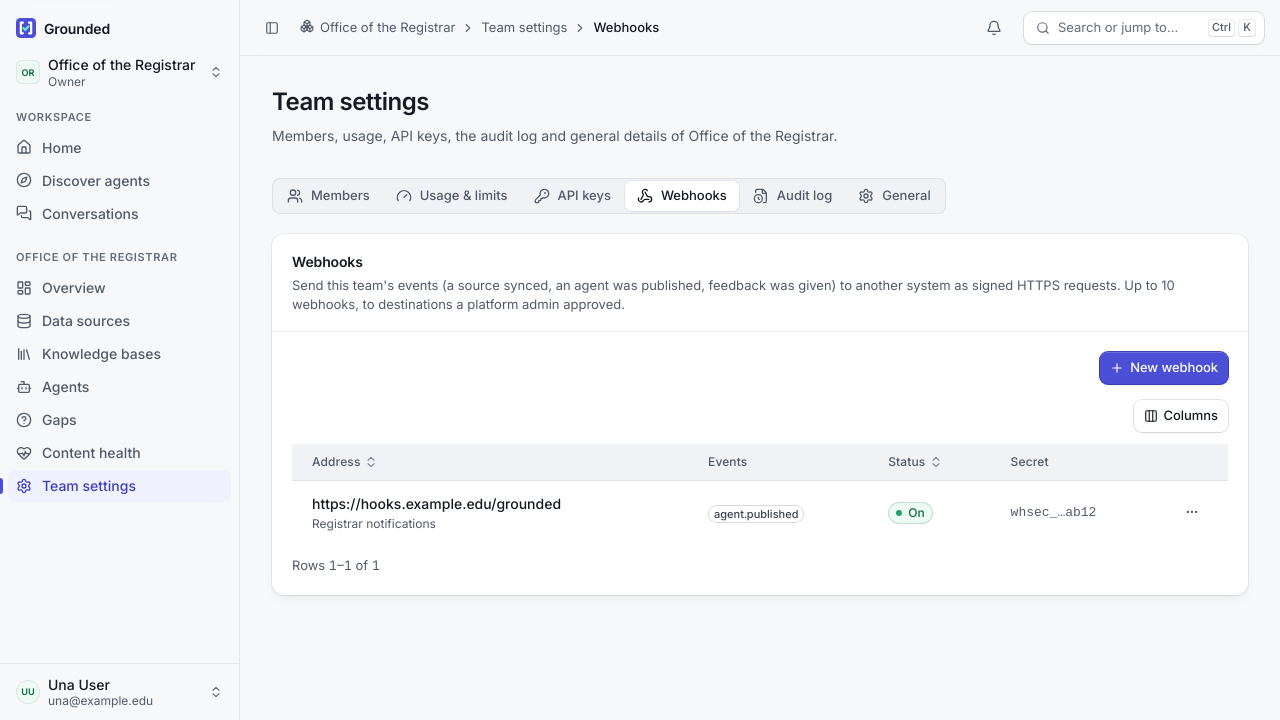
Test: the deliveries panel › says nothing has been sent yet, and offers a test event
The image size is (1280, 720).
Click the button named "Actions for https://hooks.example.edu/grounded": click(1192, 512) [1176, 496, 1208, 528]
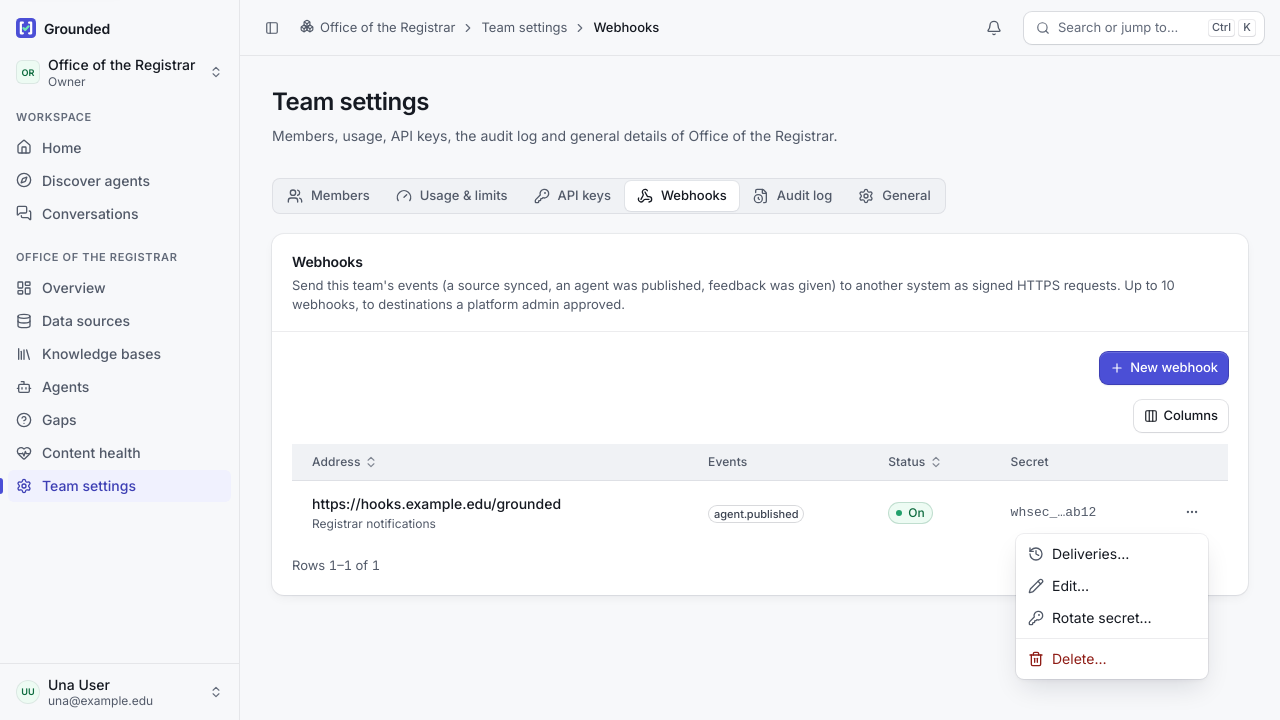
Click the menu item "Deliveries…": click(1079, 554) [1028, 545, 1129, 562]
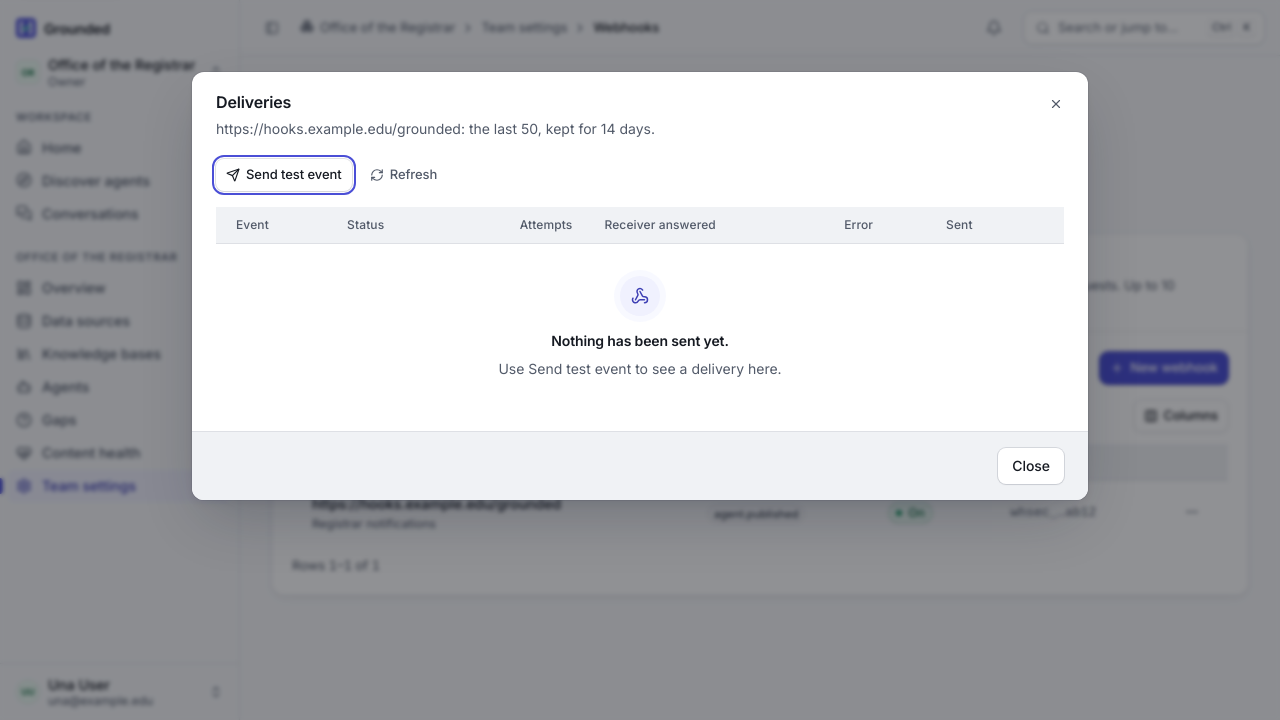
Expected: the text "Nothing has been sent yet." is shown, [551, 332, 729, 350]
Expected: the button "Send test event" is shown, [216, 159, 352, 191]
